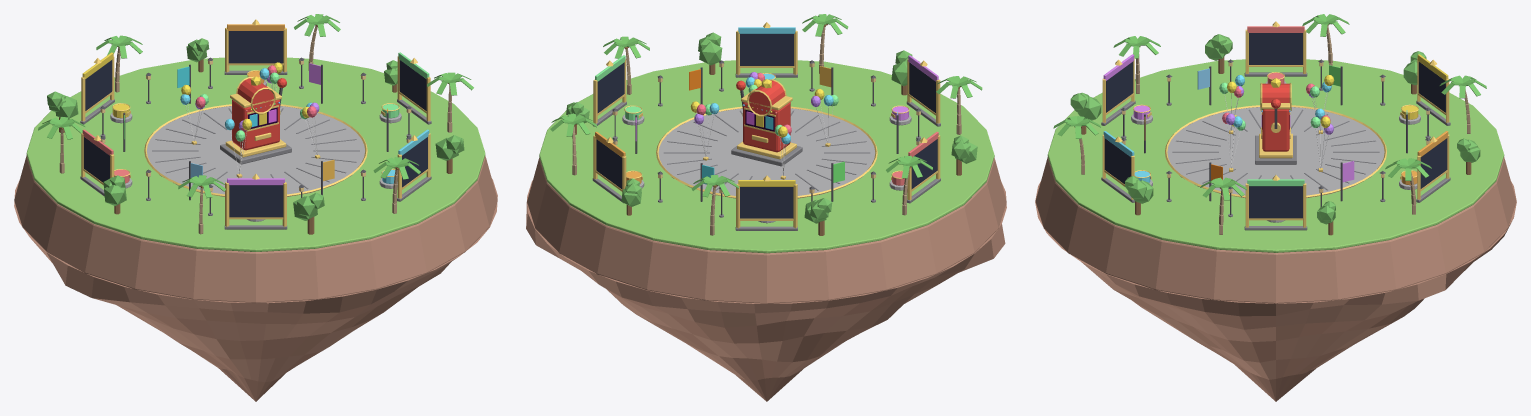
File: Centro.glb
The picture shows the model from 3 angles, left to right: view 1: azimuth 30°, elevation 25°; view 2: azimuth 150°, elevation 25°; view 3: azimuth 270°, elevation 25°; orthographic projection.
Parts seen in each view (by area): view 1: Centro_Plaza, Centro_Base_Flotante, Centro_Arboles, Centro_Top_Tiempo_Pantalla, Centro_Top_Giros_Pantalla, Centro_Top_Giros, Centro_Top_Oleadas, Centro_Top_Monedas, Centro_Top_Tiempo, Centro_Top_Torretas, Centro_Top_Enemigos, Centro_Top_Oleadas_Pantalla (+3 smaller); view 2: Centro_Plaza, Centro_Base_Flotante, Centro_Arboles, Centro_Top_Oleadas_Pantalla, Centro_Top_Torretas_Pantalla, Centro_Top_Oleadas, Centro_Top_Monedas, Centro_Top_Giros, Centro_Top_Torretas, Centro_Top_Enemigos, Centro_Top_Tiempo, Centro_Top_Monedas_Pantalla (+3 smaller); view 3: Centro_Plaza, Centro_Base_Flotante, Centro_Arboles, Centro_Top_Monedas_Pantalla, Centro_Top_Enemigos_Pantalla, Centro_Top_Monedas, Centro_Top_Enemigos, Centro_Top_Giros, Centro_Top_Oleadas, Centro_Top_Tiempo, Centro_Top_Torretas, Centro_Top_Giros_Pantalla (+3 smaller).
Boxes of the visible parts, box(x1,y1,x2,y2) form: Centro_Plaza: box(14, 57, 497, 303); Centro_Base_Flotante: box(14, 178, 497, 401); Centro_Arboles: box(38, 14, 473, 234); Centro_Top_Tiempo_Pantalla: box(228, 31, 283, 63); Centro_Top_Giros_Pantalla: box(229, 185, 283, 217); Centro_Top_Giros: box(224, 174, 287, 229); Centro_Top_Oleadas: box(80, 52, 132, 124); Centro_Top_Monedas: box(379, 52, 431, 124); Centro_Top_Tiempo: box(224, 19, 287, 86); Centro_Top_Torretas: box(379, 129, 431, 201); Centro_Top_Enemigos: box(80, 129, 132, 196); Centro_Top_Oleadas_Pantalla: box(85, 60, 112, 110); Centro_Plaza: box(527, 60, 1006, 303); Centro_Base_Flotante: box(526, 180, 1006, 401); Centro_Arboles: box(550, 14, 982, 235); Centro_Top_Oleadas_Pantalla: box(740, 187, 793, 218); Centro_Top_Torretas_Pantalla: box(740, 34, 793, 65); Centro_Top_Oleadas: box(735, 175, 797, 230); Centro_Top_Monedas: box(593, 55, 644, 126); Centro_Top_Giros: box(889, 55, 940, 126); Centro_Top_Torretas: box(735, 22, 797, 79); Centro_Top_Enemigos: box(889, 131, 940, 203); Centro_Top_Tiempo: box(592, 131, 644, 203); Centro_Top_Monedas_Pantalla: box(597, 62, 624, 113); Centro_Plaza: box(1035, 59, 1516, 303); Centro_Base_Flotante: box(1035, 181, 1516, 401); Centro_Arboles: box(1053, 14, 1486, 235); Centro_Top_Monedas_Pantalla: box(1249, 186, 1302, 218); Centro_Top_Enemigos_Pantalla: box(1249, 33, 1302, 64); Centro_Top_Monedas: box(1244, 175, 1307, 230); Centro_Top_Enemigos: box(1244, 21, 1307, 83); Centro_Top_Giros: box(1101, 54, 1152, 125); Centro_Top_Oleadas: box(1399, 54, 1450, 125); Centro_Top_Tiempo: box(1399, 131, 1450, 202); Centro_Top_Torretas: box(1101, 131, 1152, 202); Centro_Top_Giros_Pantalla: box(1106, 61, 1133, 112).
Bounding box in the file's own units: 57 × 42.28 × 57.
Materials: 1 (1 with a texture image).
